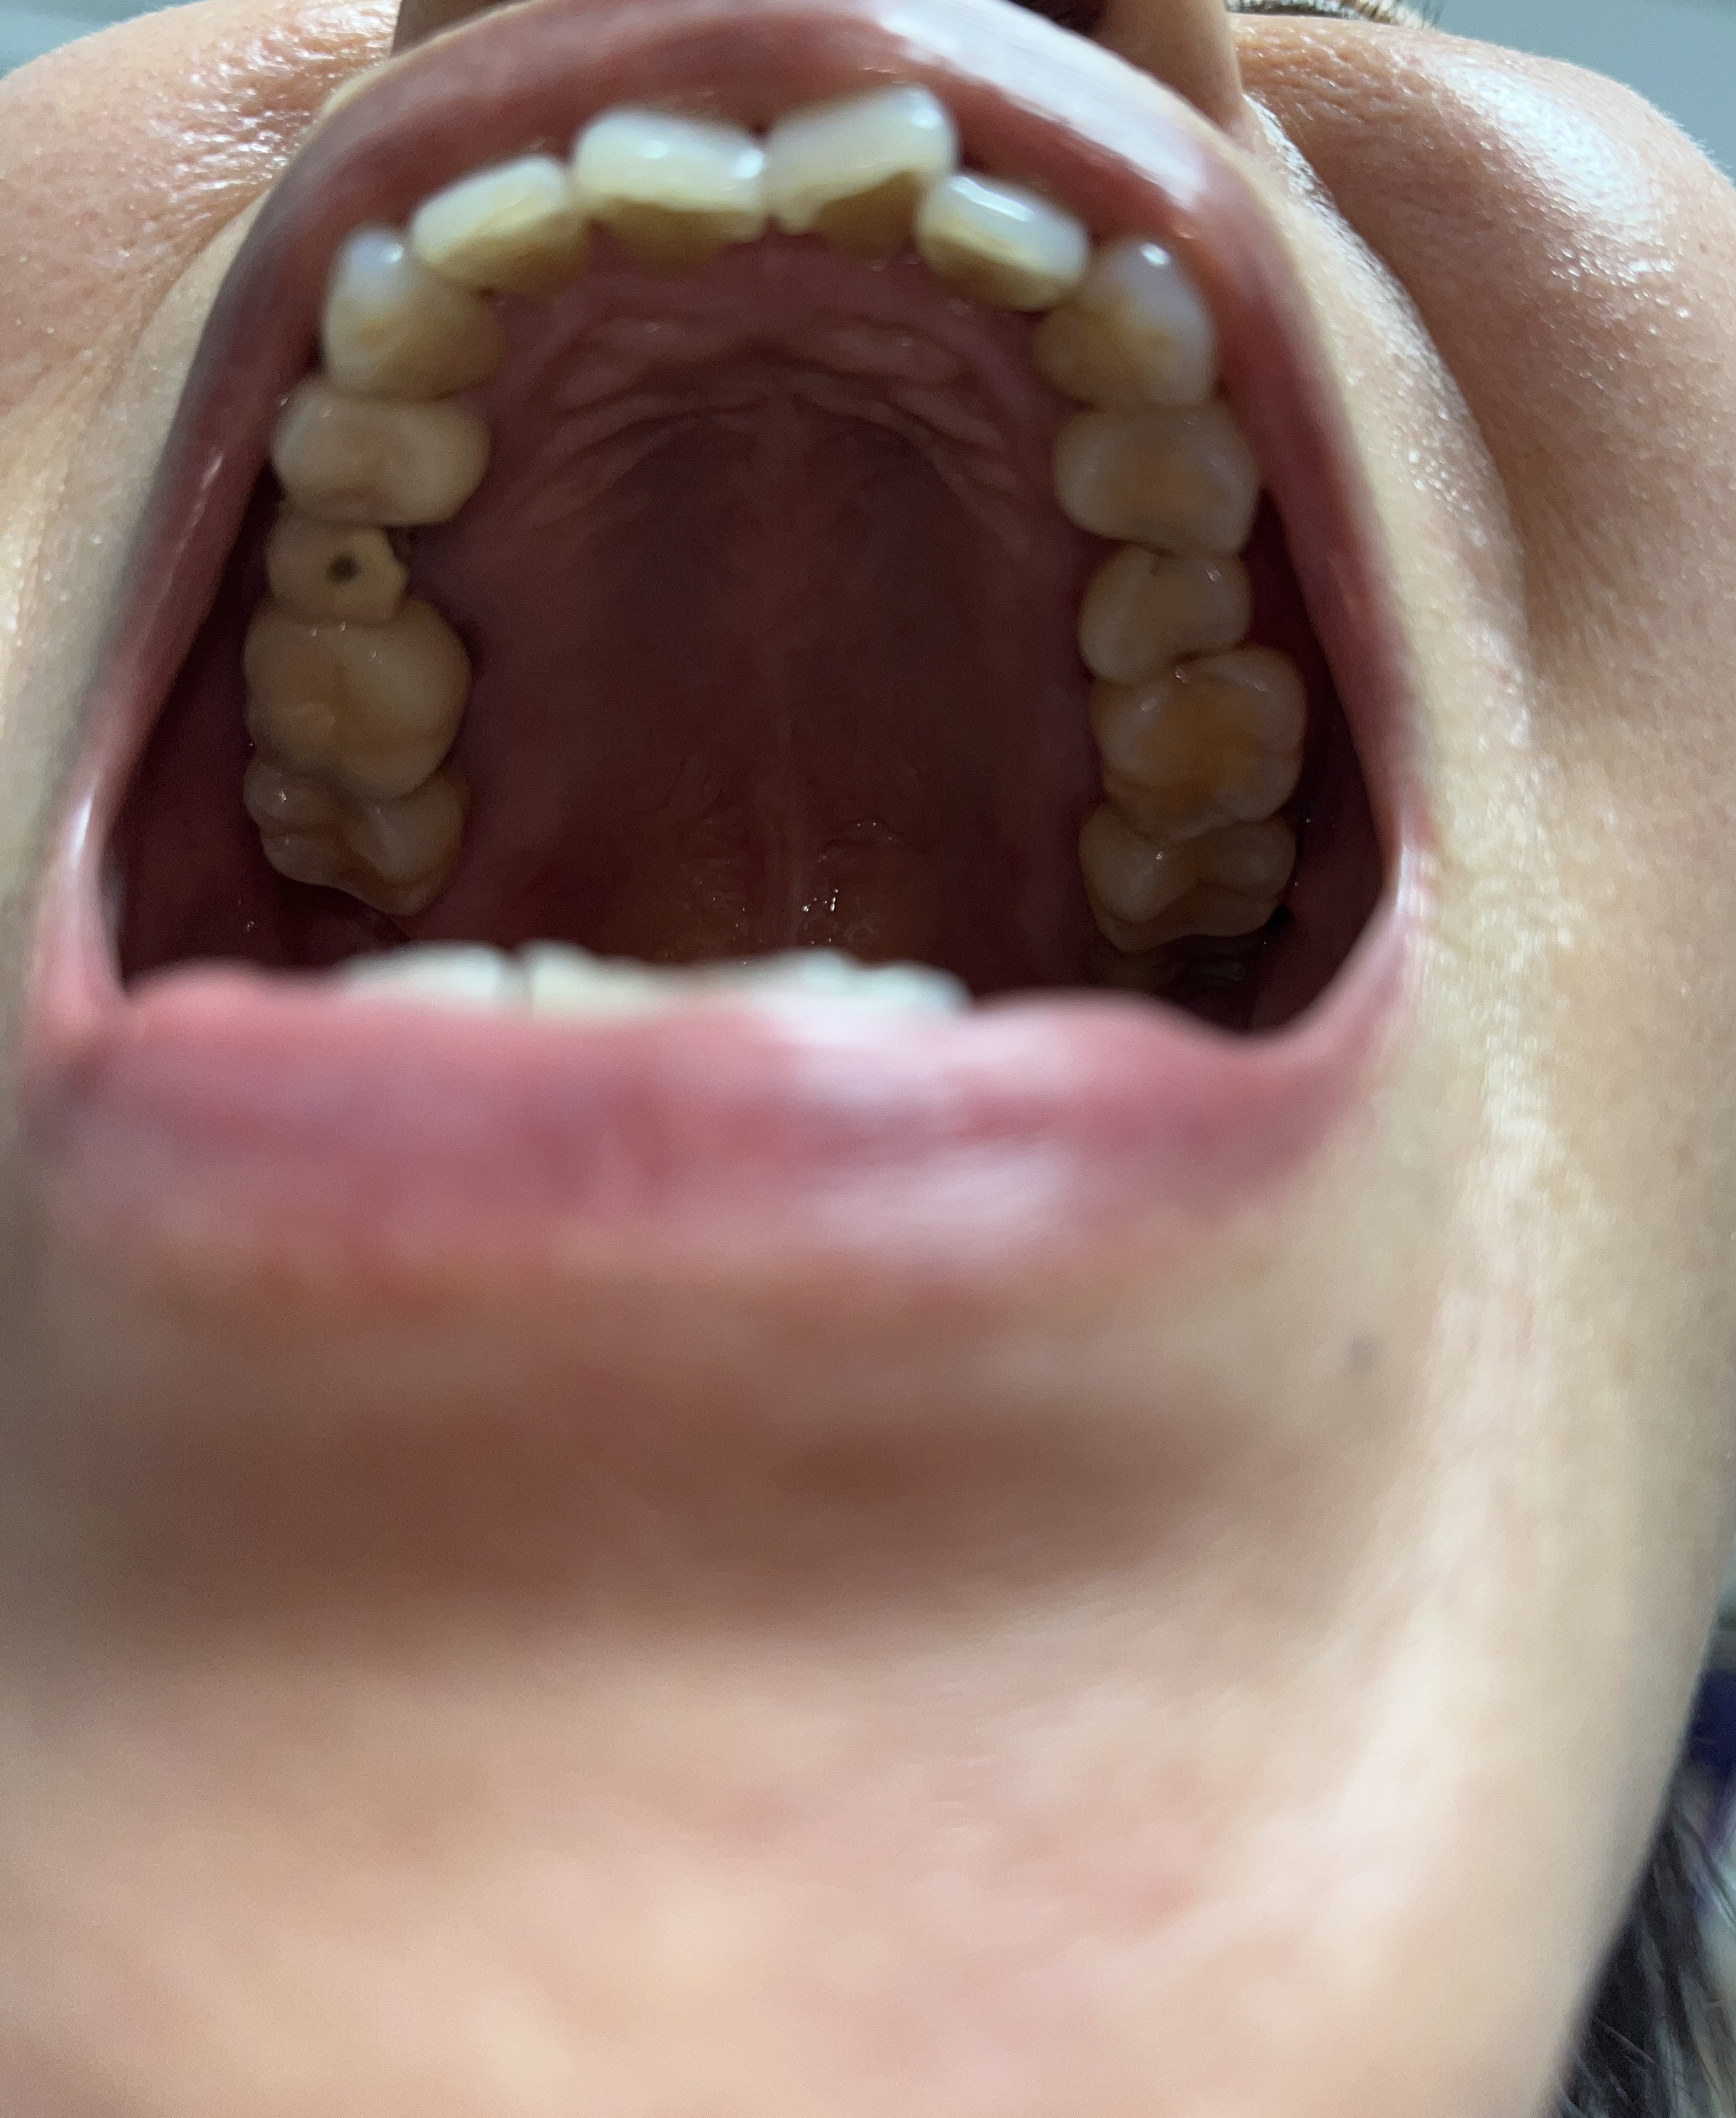teeth: (243, 619, 443, 785), (783, 81, 964, 248), (1113, 686, 1295, 841), (1039, 241, 1207, 403), (329, 236, 500, 392), (297, 394, 491, 529), (1078, 843, 1287, 959), (918, 179, 1092, 311), (431, 160, 593, 297), (1082, 570, 1266, 688), (1062, 427, 1244, 547), (589, 125, 753, 253)
